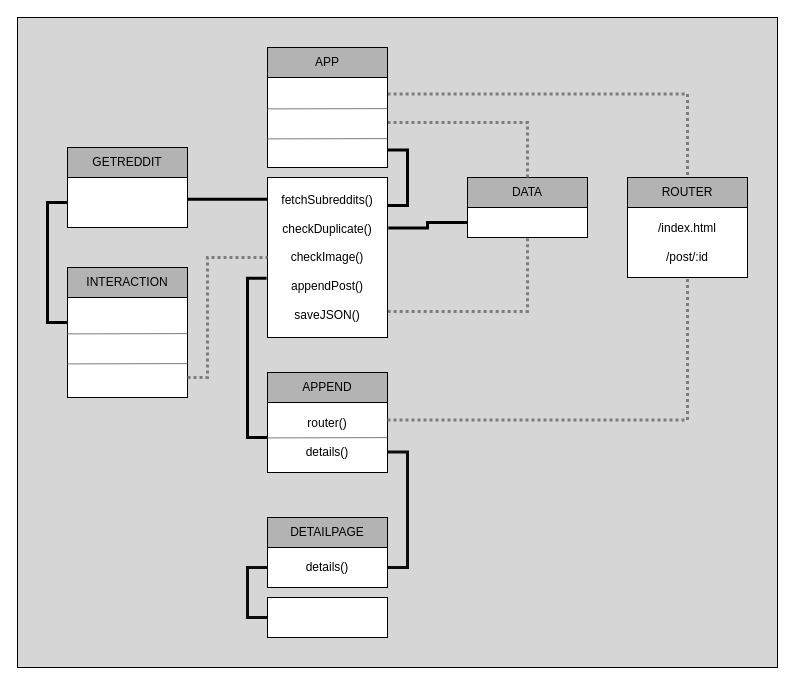
The diagram is 795 pixels wide and 685 high, and some of its shapes have lost their labels. The centre of each missing label's shape, as x and y in pixels:
append functions: pixel 327 617
category refreshContent() User input filters: pixel 127 347
getSubreddit(): pixel 127 202
router() cleanJSON() callFetch(): pixel 327 122
save/clear data: pixel 527 222
